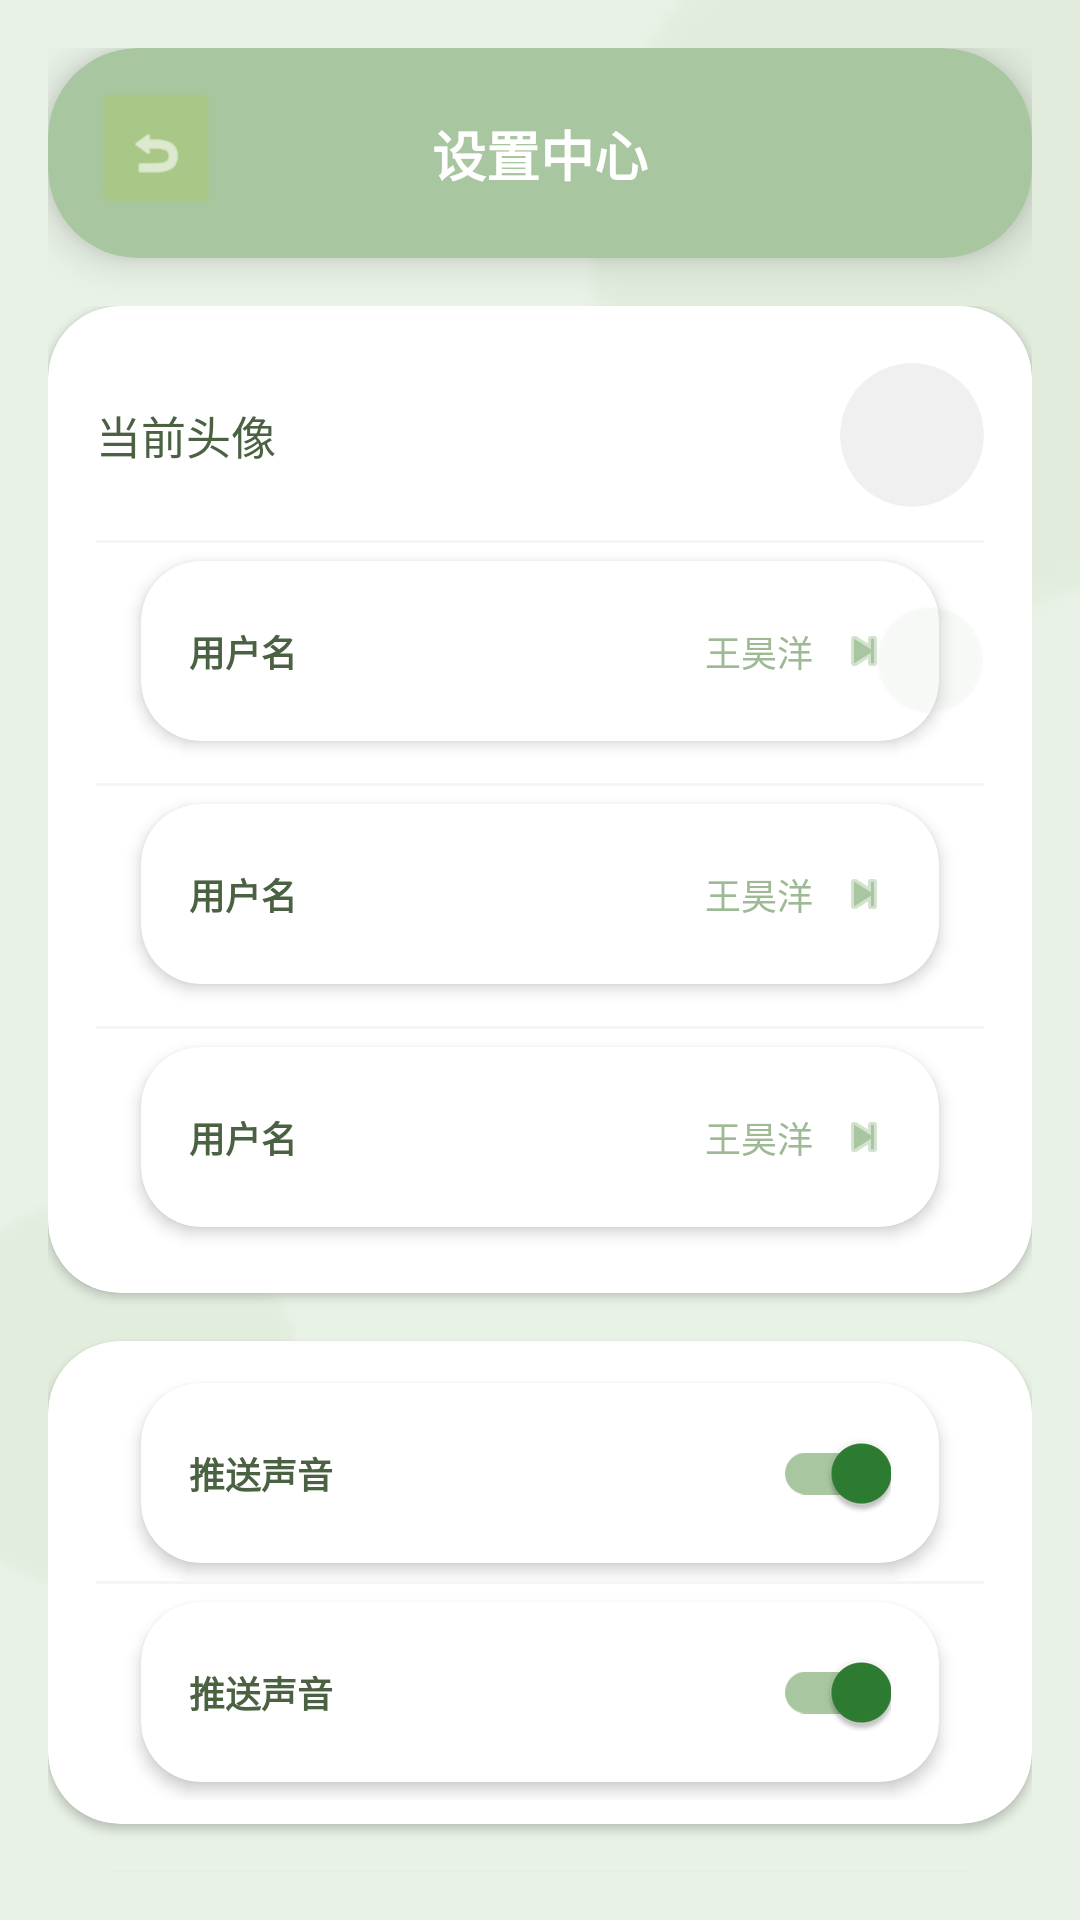

Named icons in this screenshot (1080px×1920px) and their bounding boxes, [x1, y1, x2, y2]:
next: [851, 636, 877, 666], [851, 879, 877, 909], [851, 1122, 877, 1152]
